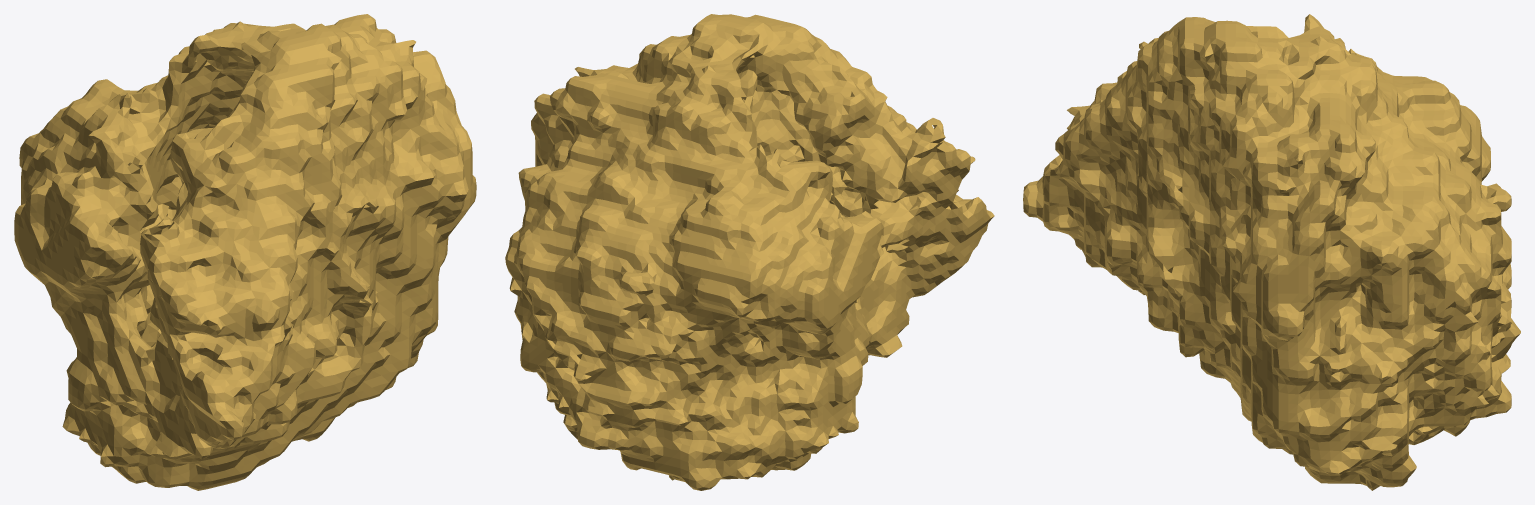
File: aseg_047_Right-Cerebellum-Cortex.glb
The picture shows the model from 3 angles, left to right: view 1: azimuth 30°, elevation 25°; view 2: azimuth 150°, elevation 25°; view 3: azimuth 270°, elevation 25°; orthographic projection. The views are drawn at different scales.
Size of the model in its own units: 41.93 by 47 by 47.73.
